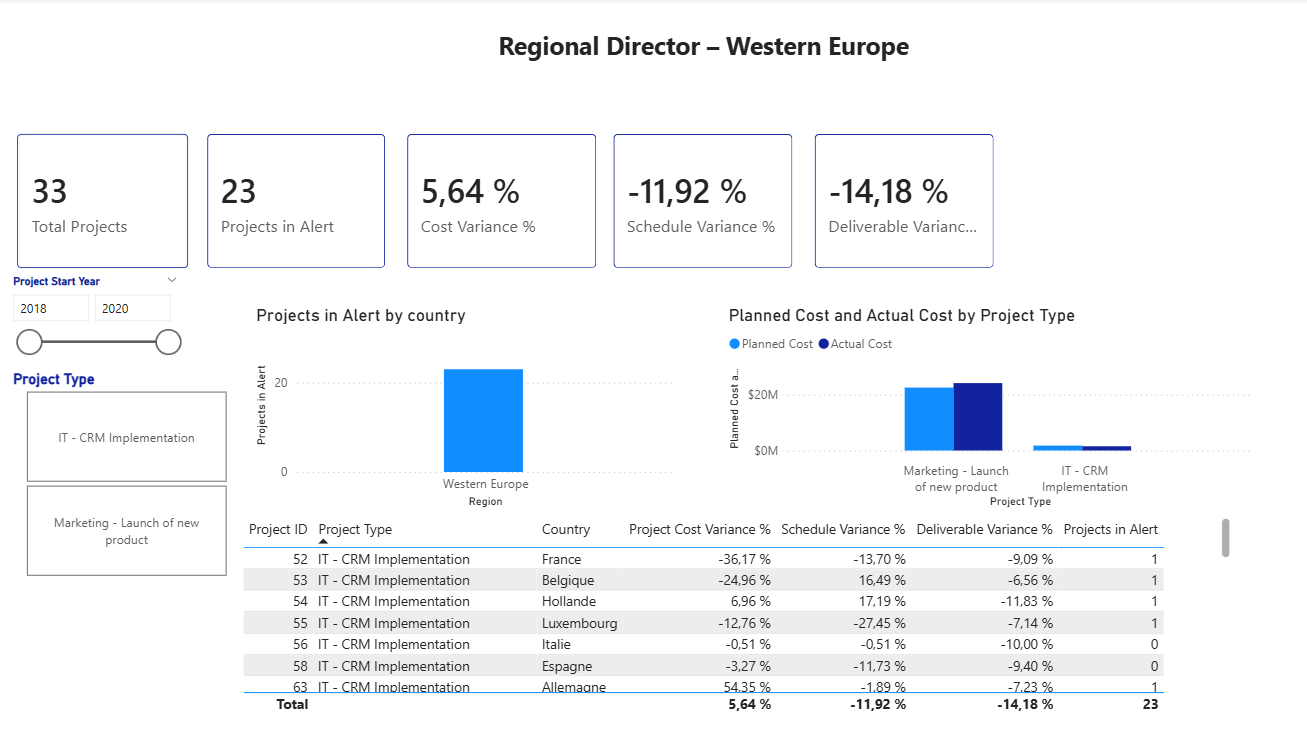

What the dashboard file says about the page in this screenshot:
{"tool":"powerbi","page":{"name":"Regional Director","canvas":[1280,720],"ordinal":1},"visuals":[{"type":"cardVisual","fields":{"Data":["Actual_Costs.Total Projects"]},"box":[0,115.6,201.2,165.6],"z":0},{"type":"cardVisual","fields":{"Data":["Actual_Costs.Cost Variance %"]},"box":[381.1,115.6,219.8,165.6],"z":1000},{"type":"cardVisual","fields":{"Data":["Actual_Costs.Projects in Alert","Actual_Costs.Projects in Alert","Actual_Costs.Projects in Alert"]},"box":[185.5,115.6,208.4,165.6],"z":2000},{"type":"textbox","box":[346.8,25.7,682.3,44.2],"z":3000},{"type":"cardVisual","fields":{"Data":["Actual_Costs.Schedule Variance %"]},"box":[583.8,115.6,209.8,165.6],"z":4000},{"type":"cardVisual","fields":{"Data":["Actual_Costs.Deliverable Variance %"]},"box":[780.7,115.6,209.8,165.6],"z":6000},{"type":"slicer","fields":{"Values":["Dim_Project.Project Type"]},"box":[0,359.7,245.5,212.7],"z":7000},{"type":"slicer","fields":{"Values":["Dim_Project.Project Start Year"]},"box":[0,265.5,185.5,94.2],"z":8000},{"type":"clusteredColumnChart","title":"Projects in Alert by country","fields":{"Y":["Actual_Costs.Projects in Alert"],"Category":["Country_Profiles.Region"]},"box":[245.5,299.7,418.2,204.1],"z":9000},{"type":"clusteredColumnChart","fields":{"Category":["Dim_Project.Project Type"],"Y":["Actual_Costs.Planned Cost","Actual_Costs.Actual Cost"]},"box":[707.9,299.7,522.4,204.1],"z":10000},{"type":"tableEx","fields":{"Values":["Dim_Project.Project ID","Dim_Project.Project Type","Dim_Project.Country","Actual_Costs.Project Cost Variance %","Actual_Costs.Schedule Variance %","Actual_Costs.Deliverable Variance %","Actual_Costs.Projects in Alert"]},"box":[232.7,503.8,976.3,201.2],"z":11000}]}

Visuals, with their boxes in screenshot pixels (x1, y1, x2, y2), scaled from the page's 1280x720 canvas onto the 1307x732 screenshot:
cardVisual - Actual_Costs.Total Projects: left=0, top=118, right=205, bottom=286
cardVisual - Actual_Costs.Cost Variance %: left=389, top=118, right=614, bottom=286
cardVisual - Actual_Costs.Projects in Alert x Actual_Costs.Projects in Alert: left=189, top=118, right=402, bottom=286
textbox: left=354, top=26, right=1051, bottom=71
cardVisual - Actual_Costs.Schedule Variance %: left=596, top=118, right=810, bottom=286
cardVisual - Actual_Costs.Deliverable Variance %: left=797, top=118, right=1011, bottom=286
slicer - Dim_Project.Project Type: left=0, top=366, right=251, bottom=582
slicer - Dim_Project.Project Start Year: left=0, top=270, right=189, bottom=366
"Projects in Alert by country" clusteredColumnChart: left=251, top=305, right=678, bottom=512
clusteredColumnChart - Dim_Project.Project Type x Actual_Costs.Planned Cost: left=723, top=305, right=1256, bottom=512
tableEx - Dim_Project.Project ID x Dim_Project.Project Type: left=238, top=512, right=1235, bottom=717
